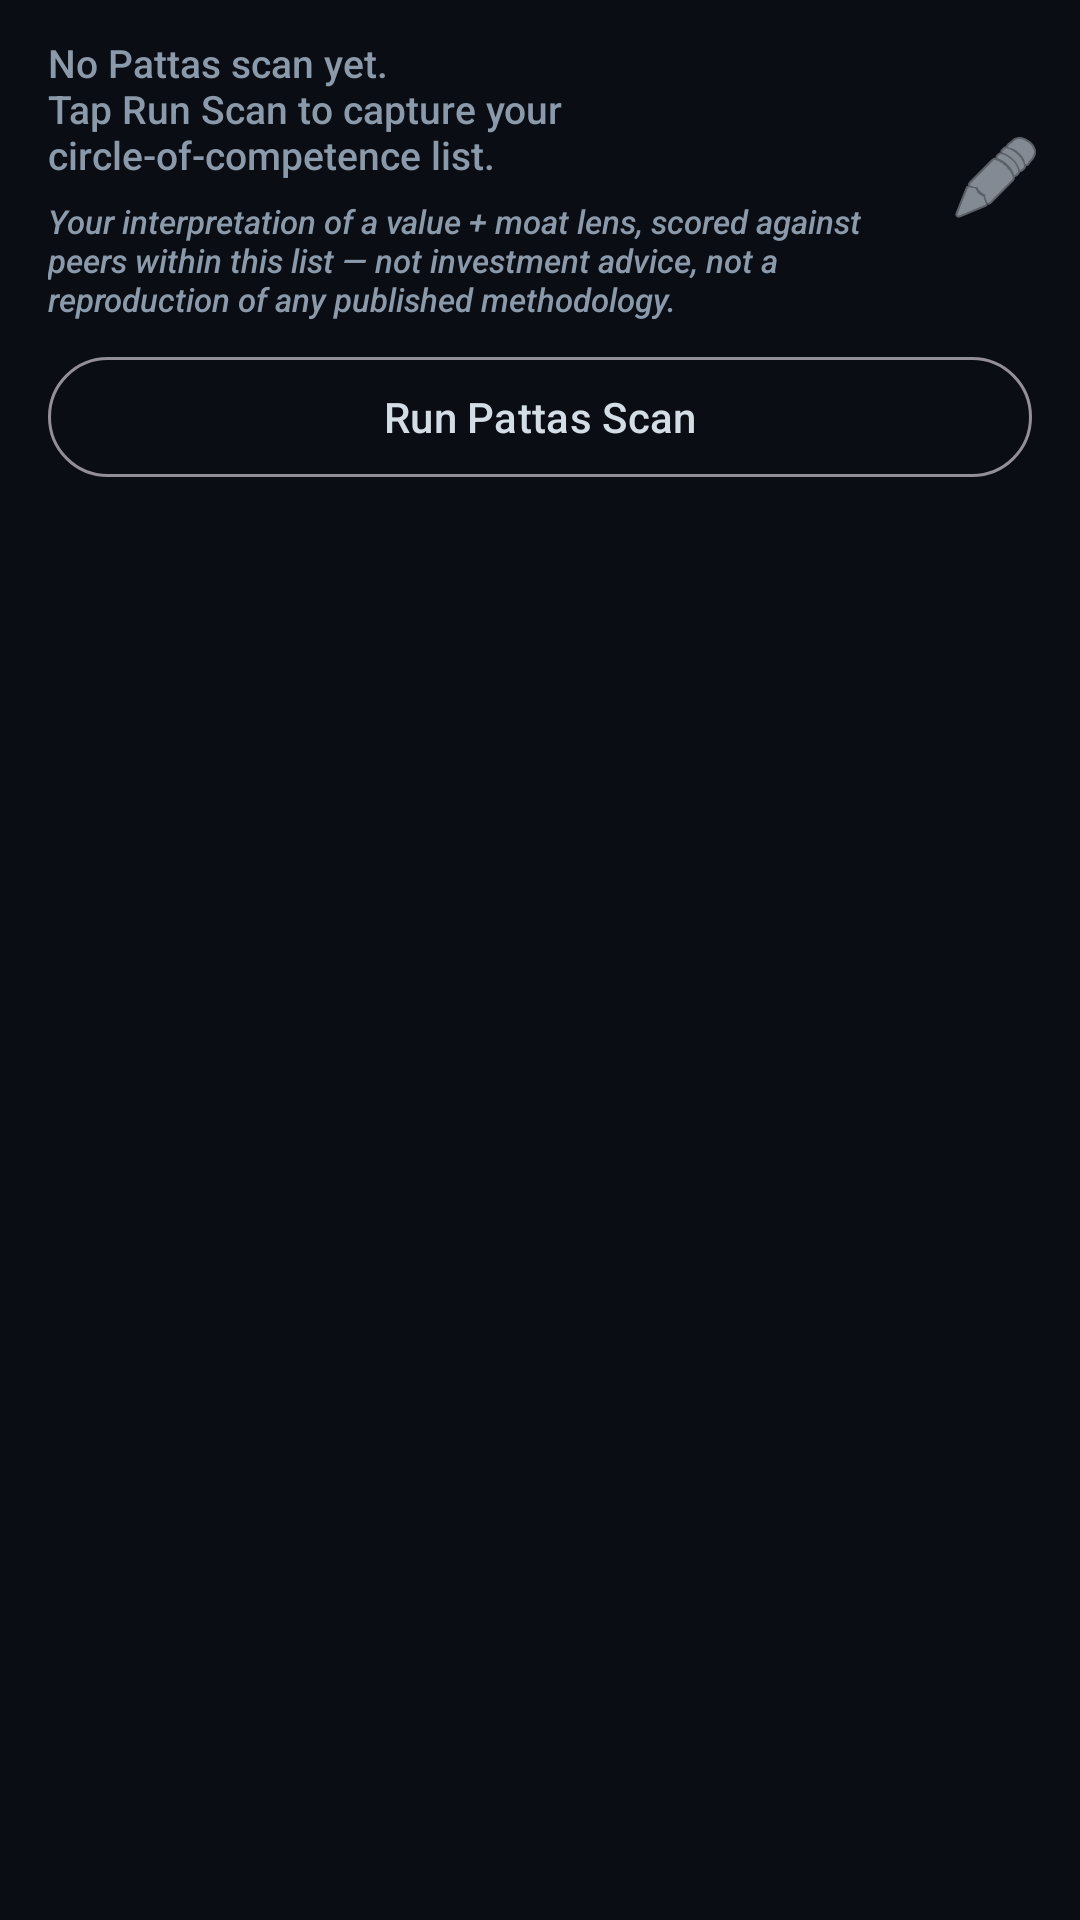

Locate icon controls on the screen. Image size 1080×1920, boxes as (x1, y1, x2, y2).
Edit list: (955, 137, 1036, 218)
